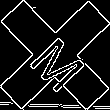M_NE: (21, 21, 89, 89)
